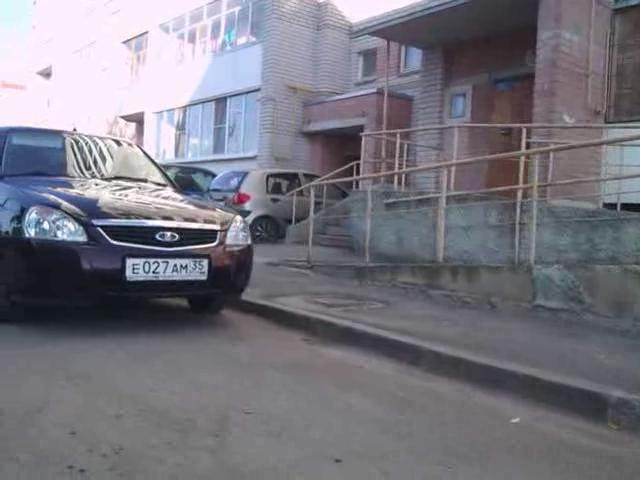car license plate: (121, 253, 212, 290)
